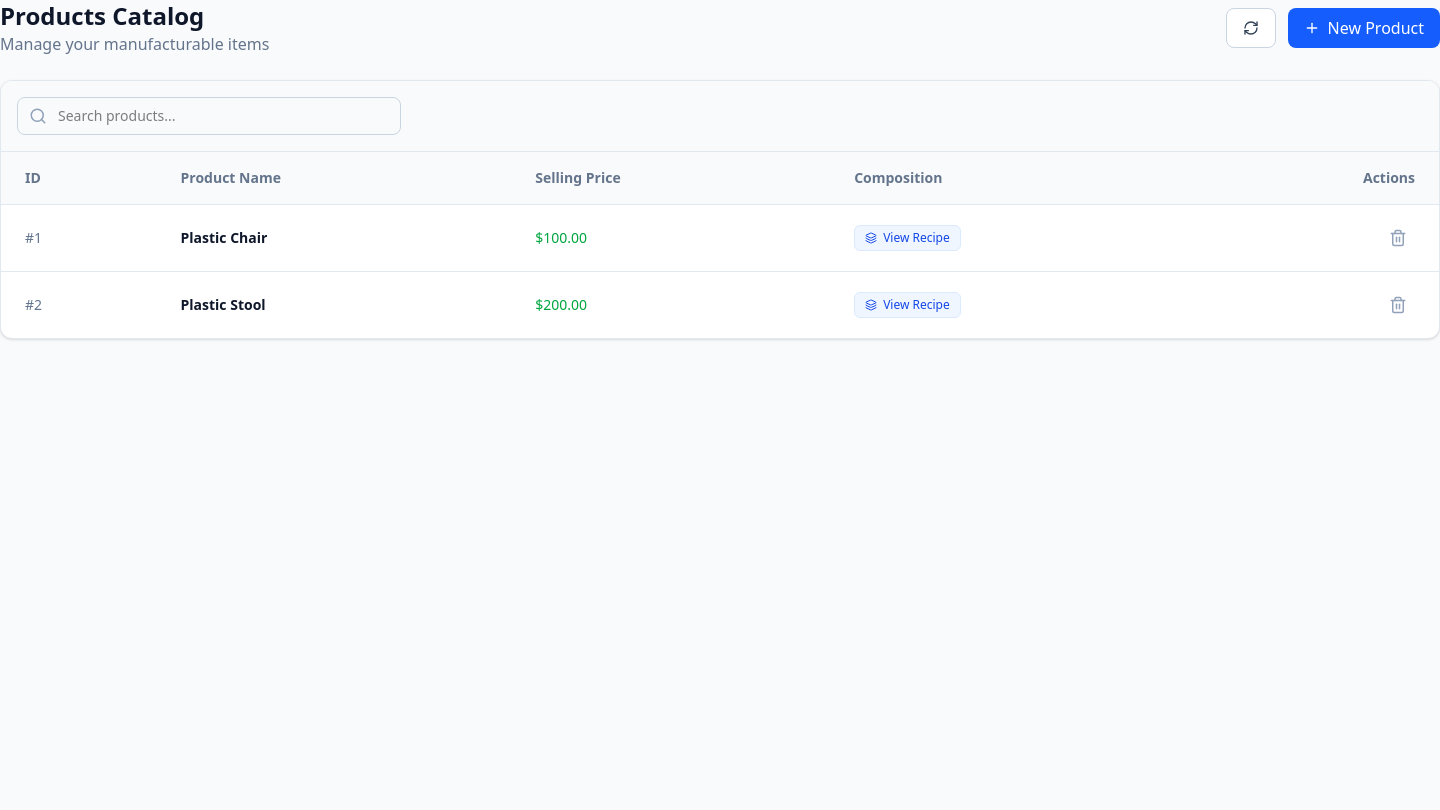
Test: ProductsList Integration › should open recipe modal when clicking View Recipe
Click the button "View Recipe" in the row of "Plastic Chair".
click(908, 238)  # box [854,225,961,251]
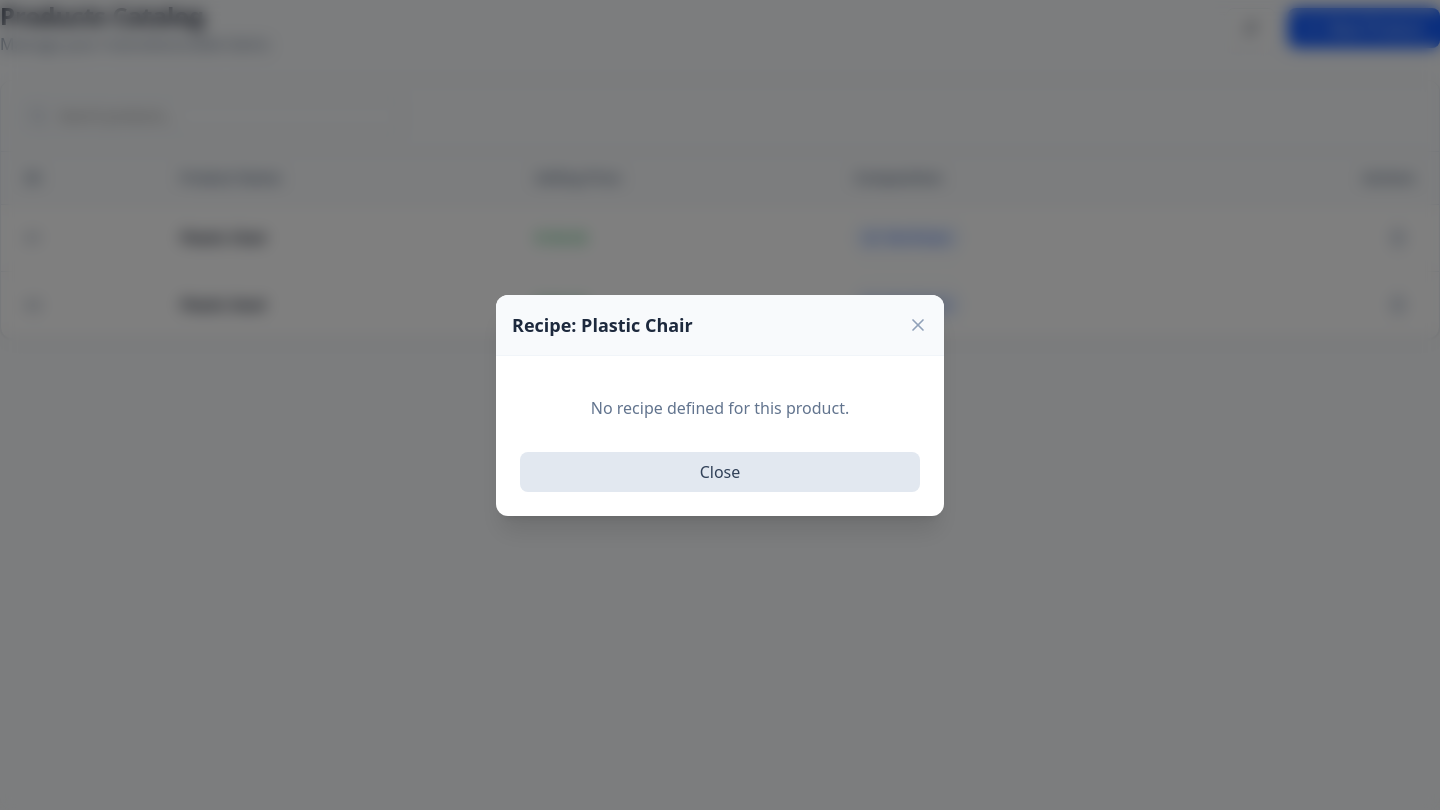
Result: the heading "Recipe: Plastic Chair" is shown at [512,310,693,338]
